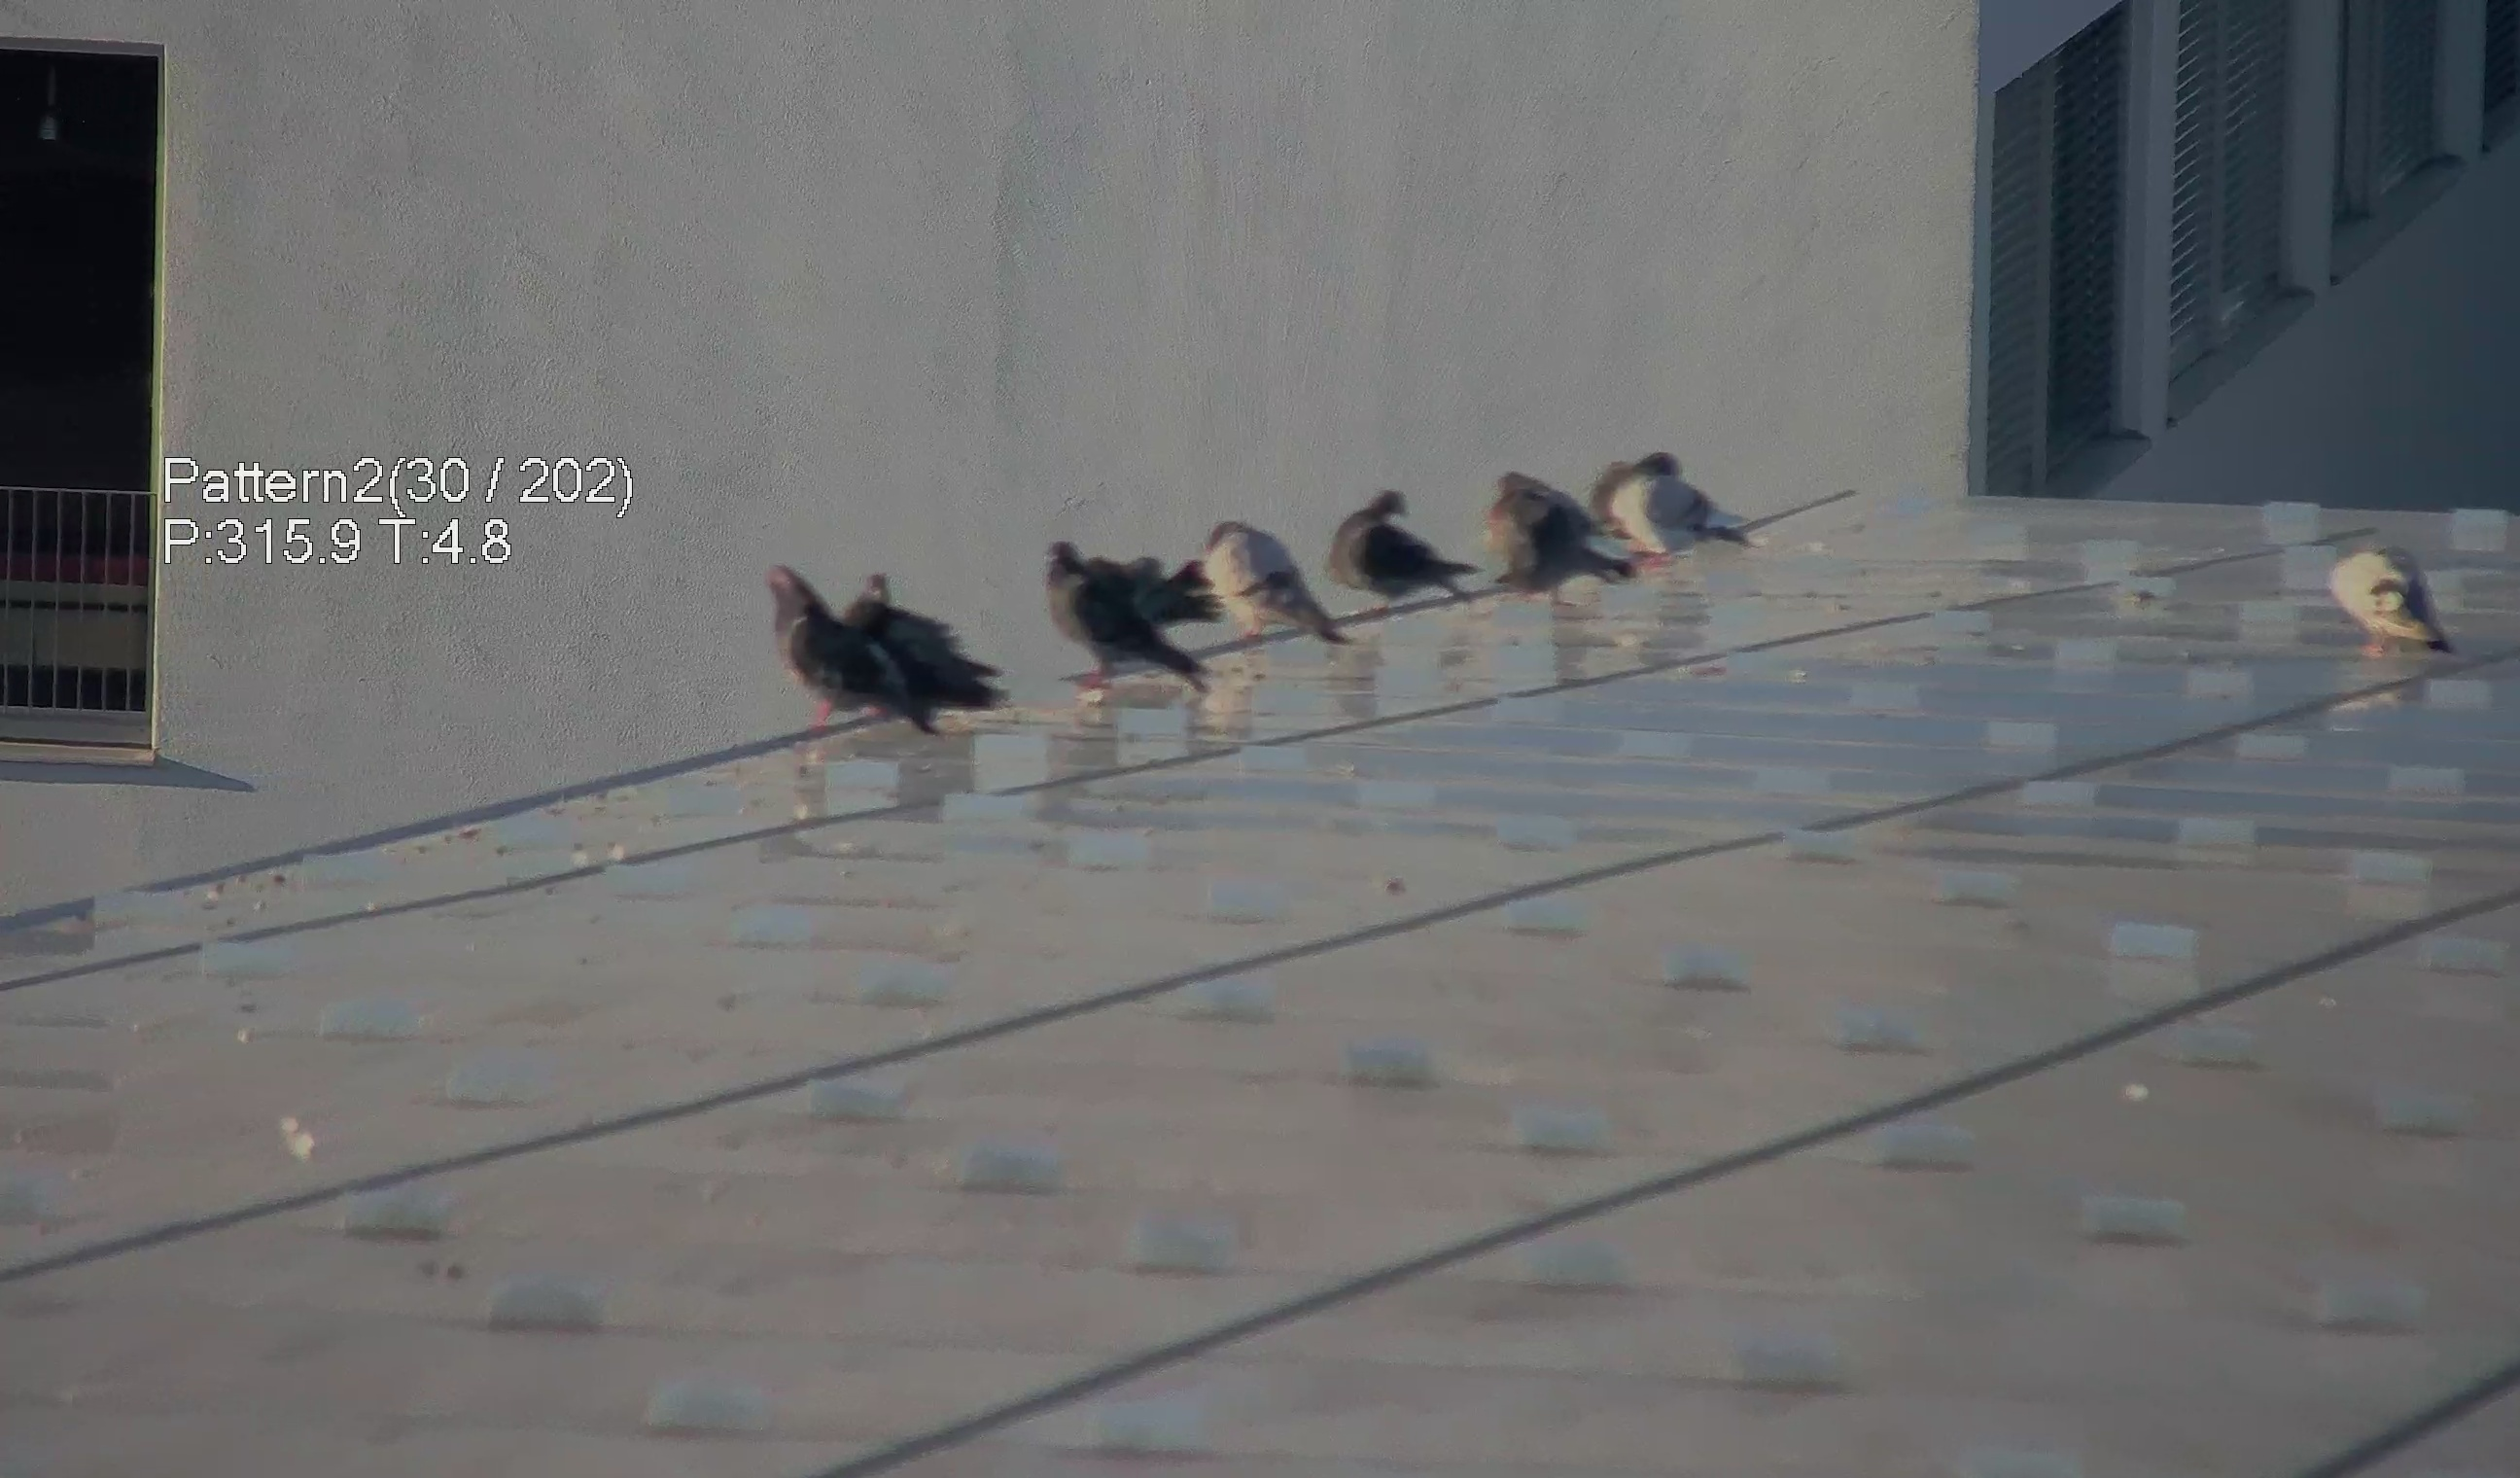Pigeon: (744, 549, 951, 741), (1036, 514, 1227, 711), (1182, 519, 1358, 665), (844, 561, 1006, 709), (1595, 438, 1776, 565), (1321, 473, 1484, 607), (2332, 528, 2476, 656), (1489, 459, 1635, 582)
